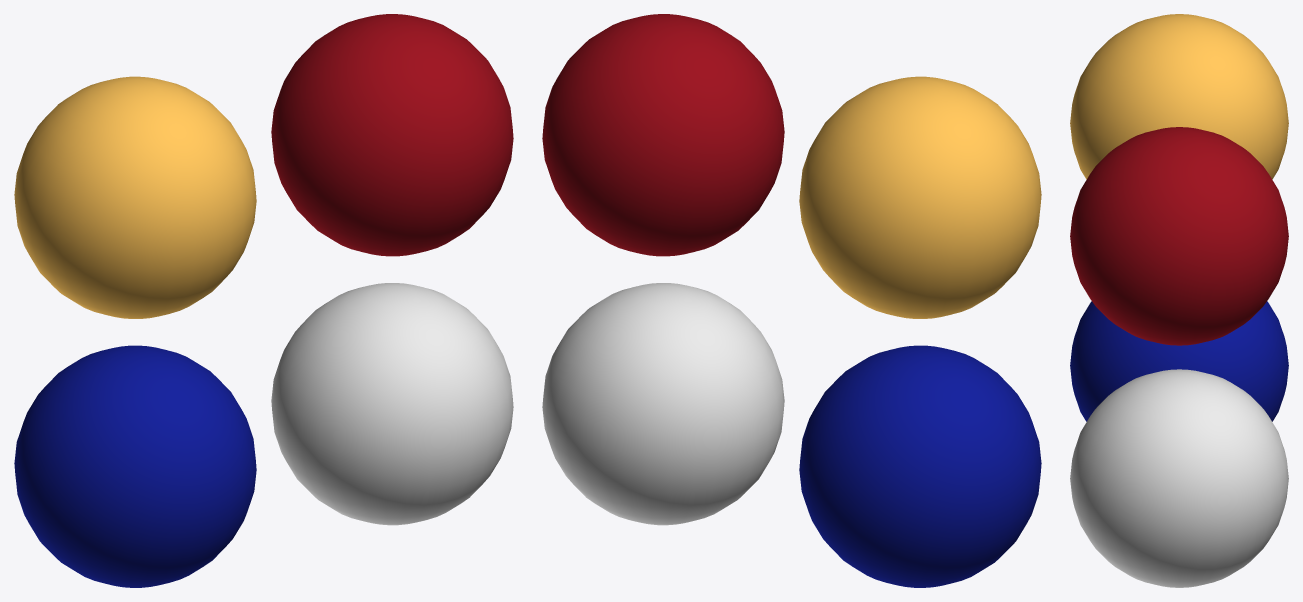
File: pbr.obj
3 renders of one model, left to right at view 1: azimuth 30°, elevation 25°; view 2: azimuth 150°, elevation 25°; view 3: azimuth 270°, elevation 25°, orthographic. The views are drawn at different scales.
Bounding box in the file's own units: 4 × 4 × 1.8.
